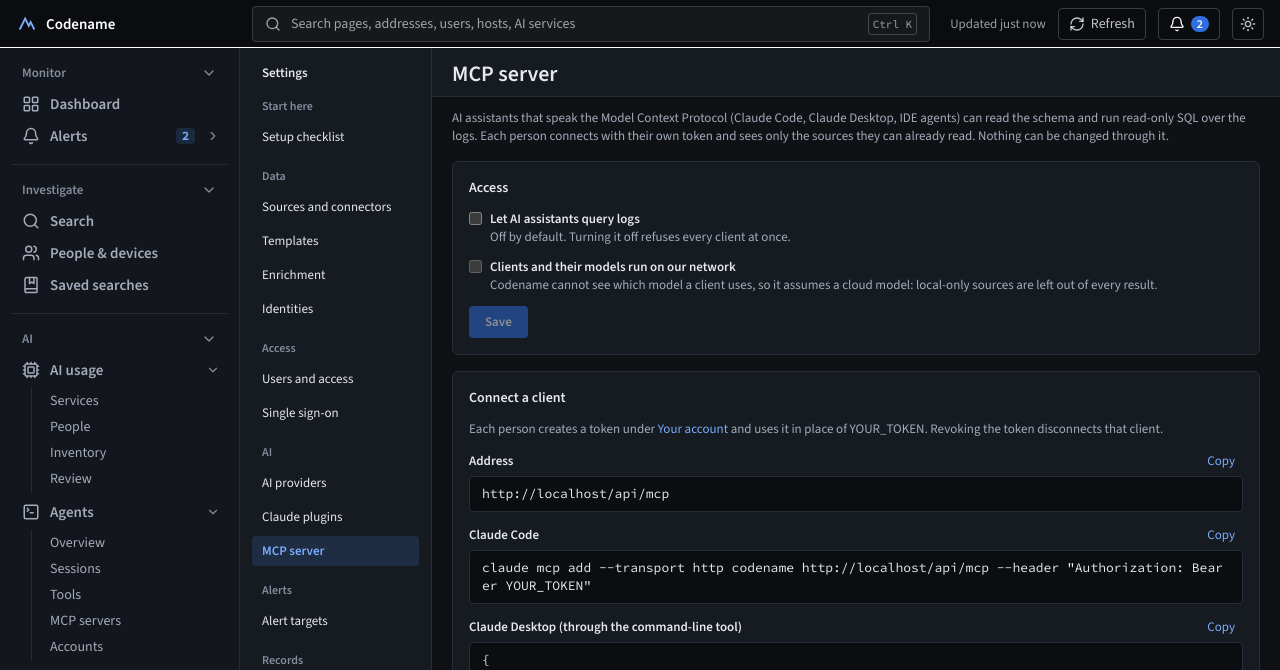
Test: MCP server settings (ADR-0003) › is off by default, saves both switches, and shows how to connect
This screenshot has width=1280, height=670.
Expected: the heading "MCP server" is shown, [452,59,558,88]
Expected: the checkbox labelled "run on our network" is disabled, [469,260,482,273]
Click the checkbox labelled "Let AI assistants query logs" at (476, 218), box [469,212,482,225]
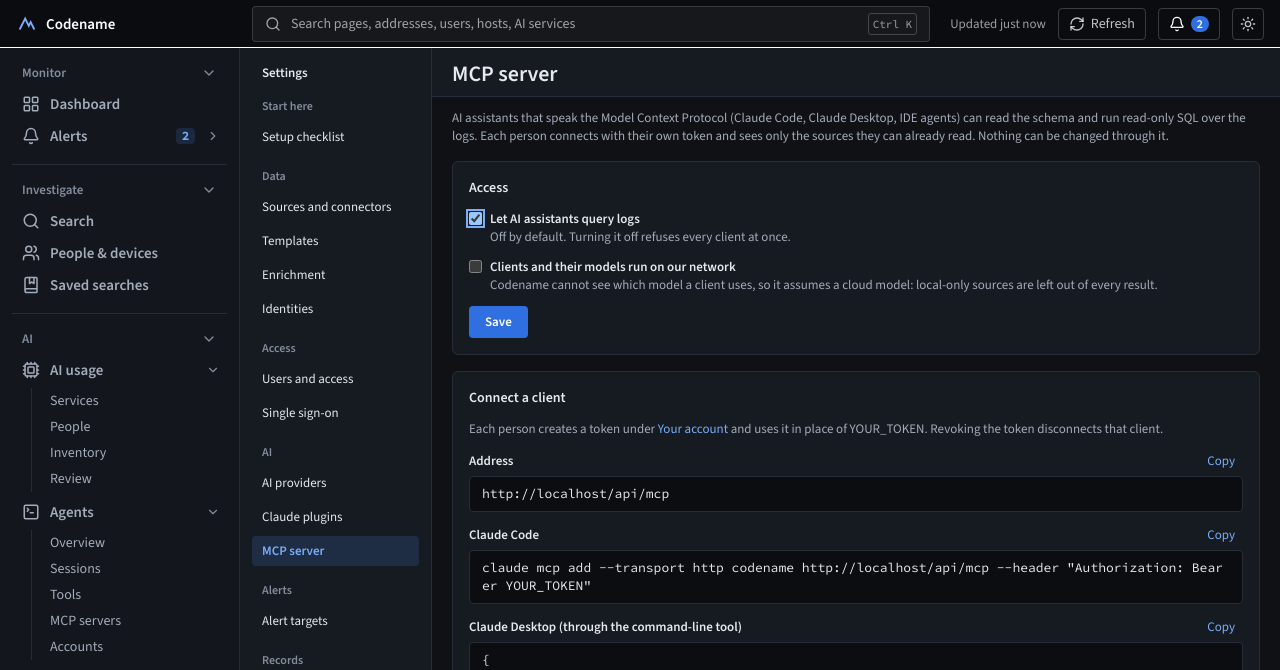
Click the checkbox labelled "run on our network" at (476, 266), box [469,260,482,273]
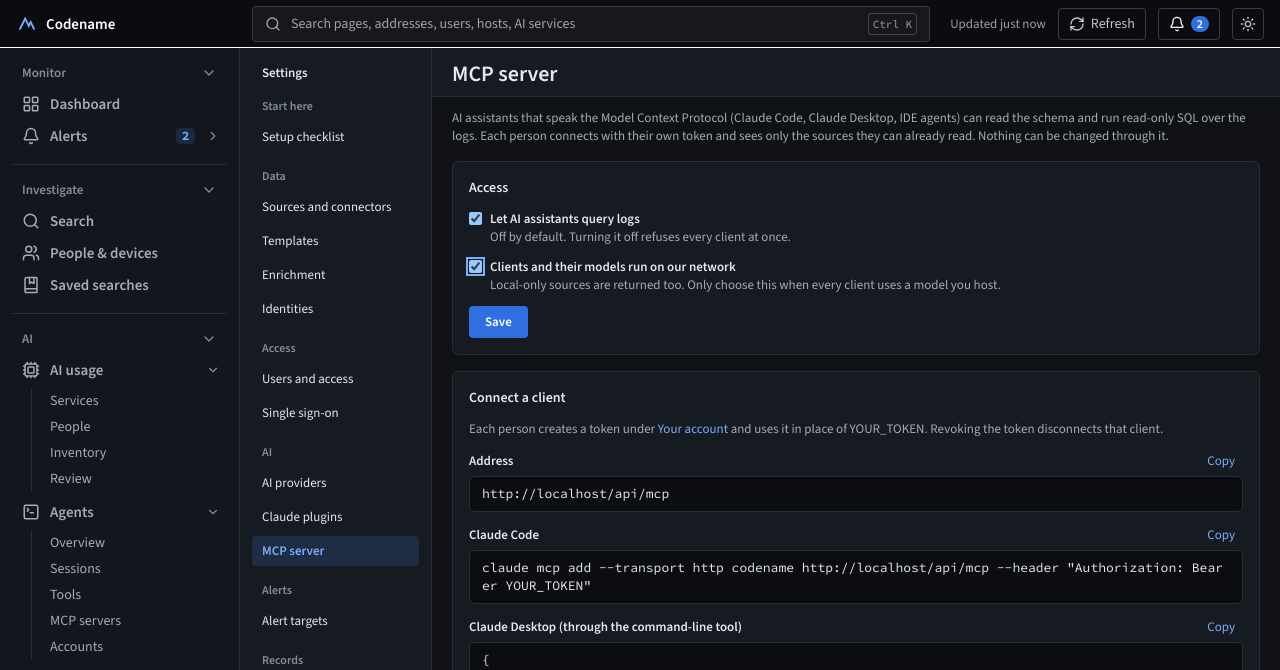
Click the button "Save" at (498, 322), box [469,306,528,338]
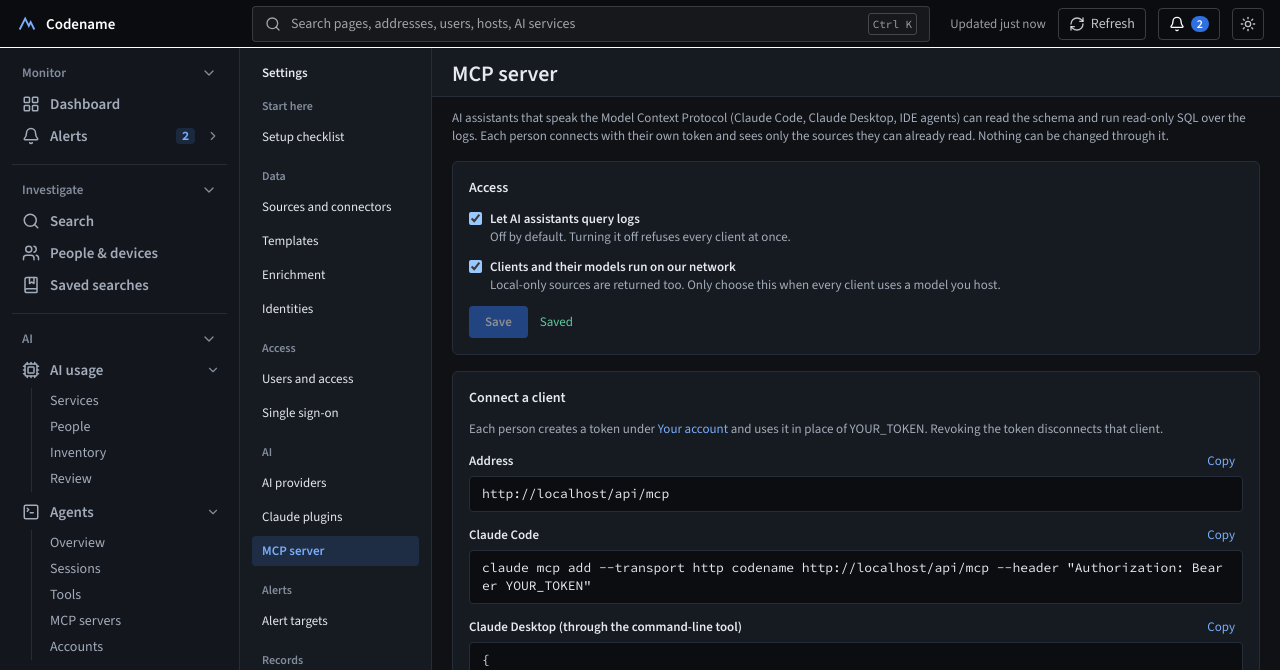
Expected: the text named "Claude Code" shows "claude mcp add --transport http codename", [482,559,1223,594]
Now the text "Saved" is shown, box [540,313,573,331]
